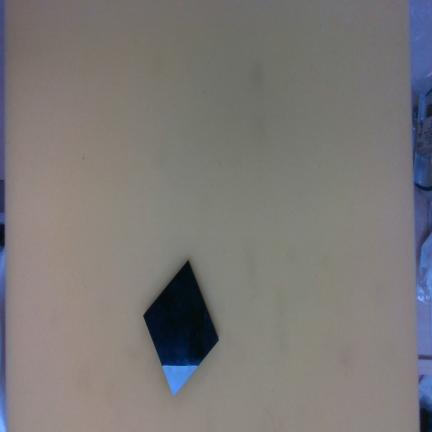tile: (130, 260, 231, 397)
